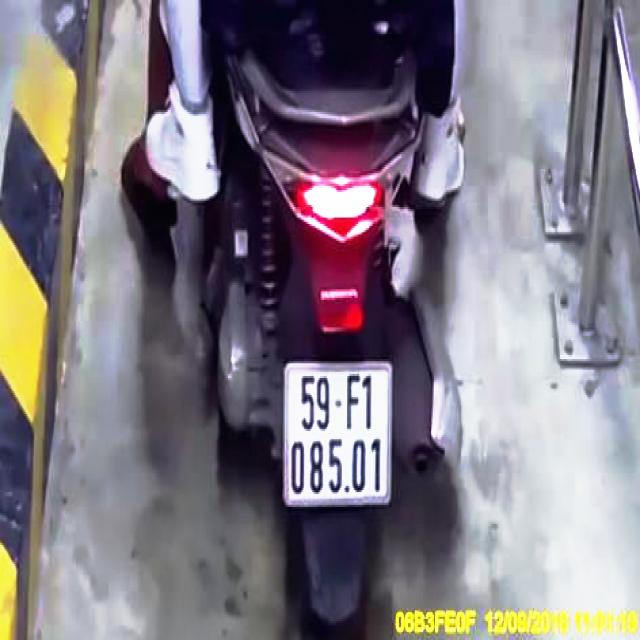license_plate: (287, 366, 392, 499)
